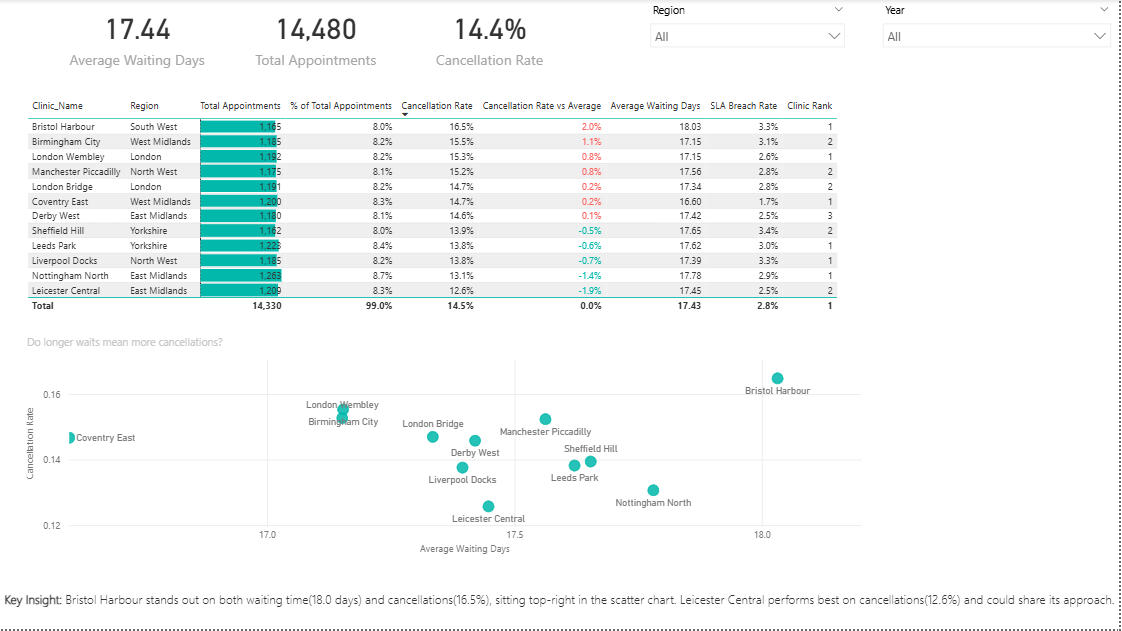

What the dashboard file says about the page in this screenshot:
{"tool":"powerbi","page":{"name":"Clinic Performance","canvas":[1280,720],"ordinal":5},"visuals":[{"type":"slicer","fields":{"Values":["Dim_Date.Year"]},"box":[999,0,281,93.7],"z":0},{"type":"textbox","box":[0,624.4,450,95.3],"z":1000},{"type":"slicer","fields":{"Values":["Dim_Clinic.Region"]},"box":[732.6,0,243,84.9],"z":2000},{"type":"card","fields":{"Values":["_Measures.Total Appointments"]},"box":[270.9,0,179.1,84.9],"z":3000},{"type":"card","fields":{"Values":["_Measures.Cancellation Rate"]},"box":[480.2,0,159.3,84.9],"z":4000},{"type":"card","fields":{"Values":["_Measures.Average Waiting Days"]},"box":[55.8,0,202.3,84.9],"z":5000},{"type":"tableEx","fields":{"Values":["Dim_Clinic.Clinic_Name","Dim_Clinic.Region","_Measures.Total Appointments","_Measures.% of Total Appointments","_Measures.Cancellation Rate","_Measures.Cancellation Rate vs Average","_Measures.Average Waiting Days","_Measures.SLA Breach Rate","_Measures.Clinic Rank"]},"box":[25.6,108.1,950,261.6],"z":6000},{"type":"scatterChart","title":"Do longer waits mean more cancellations?","fields":{"Category":["Dim_Clinic.Clinic_Name"],"X":["_Measures.Average Waiting Days"],"Y":["_Measures.Cancellation Rate"]},"box":[25.6,383.7,973.3,255.8],"z":7000},{"type":"textbox","box":[0,672.1,1280.2,47.7],"z":8000}]}

Visuals, with their boxes in screenshot pixels (x1, y1, x2, y2), scaled from the page's 1280x720 canvas onto the 1122x631 screenshot:
slicer - Dim_Date.Year: [left=876, top=0, right=1121, bottom=82]
textbox: [left=0, top=547, right=394, bottom=630]
slicer - Dim_Clinic.Region: [left=642, top=0, right=855, bottom=74]
card - _Measures.Total Appointments: [left=237, top=0, right=394, bottom=74]
card - _Measures.Cancellation Rate: [left=421, top=0, right=561, bottom=74]
card - _Measures.Average Waiting Days: [left=49, top=0, right=226, bottom=74]
tableEx - Dim_Clinic.Clinic_Name x Dim_Clinic.Region: [left=22, top=95, right=855, bottom=324]
"Do longer waits mean more cancellations?" scatterChart: [left=22, top=336, right=876, bottom=560]
textbox: [left=0, top=589, right=1121, bottom=630]
